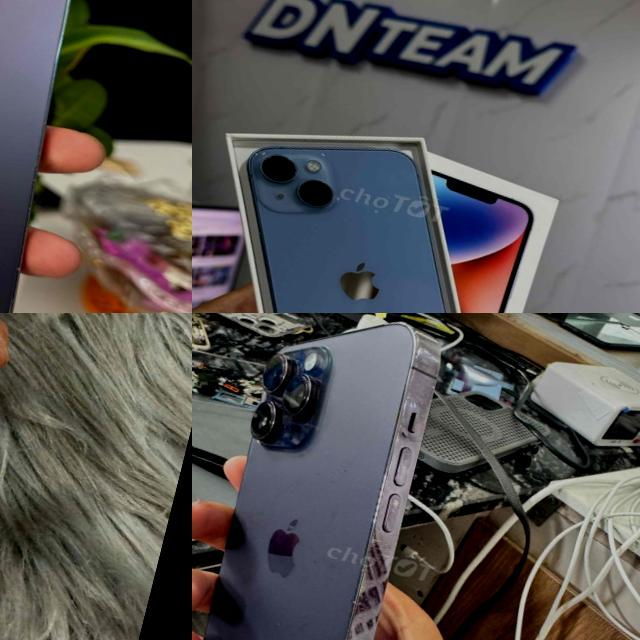scratch: (344, 394, 430, 616), (411, 336, 447, 382), (276, 407, 302, 435), (268, 384, 286, 398)
